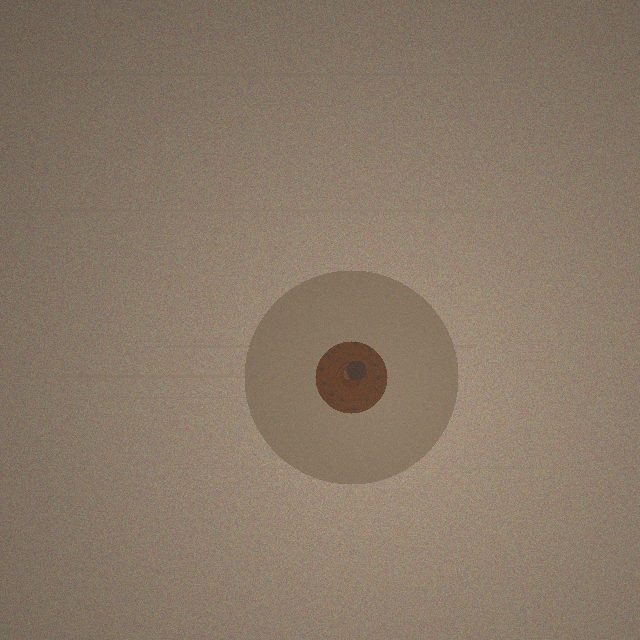cold_weld: (244, 270, 458, 484)
